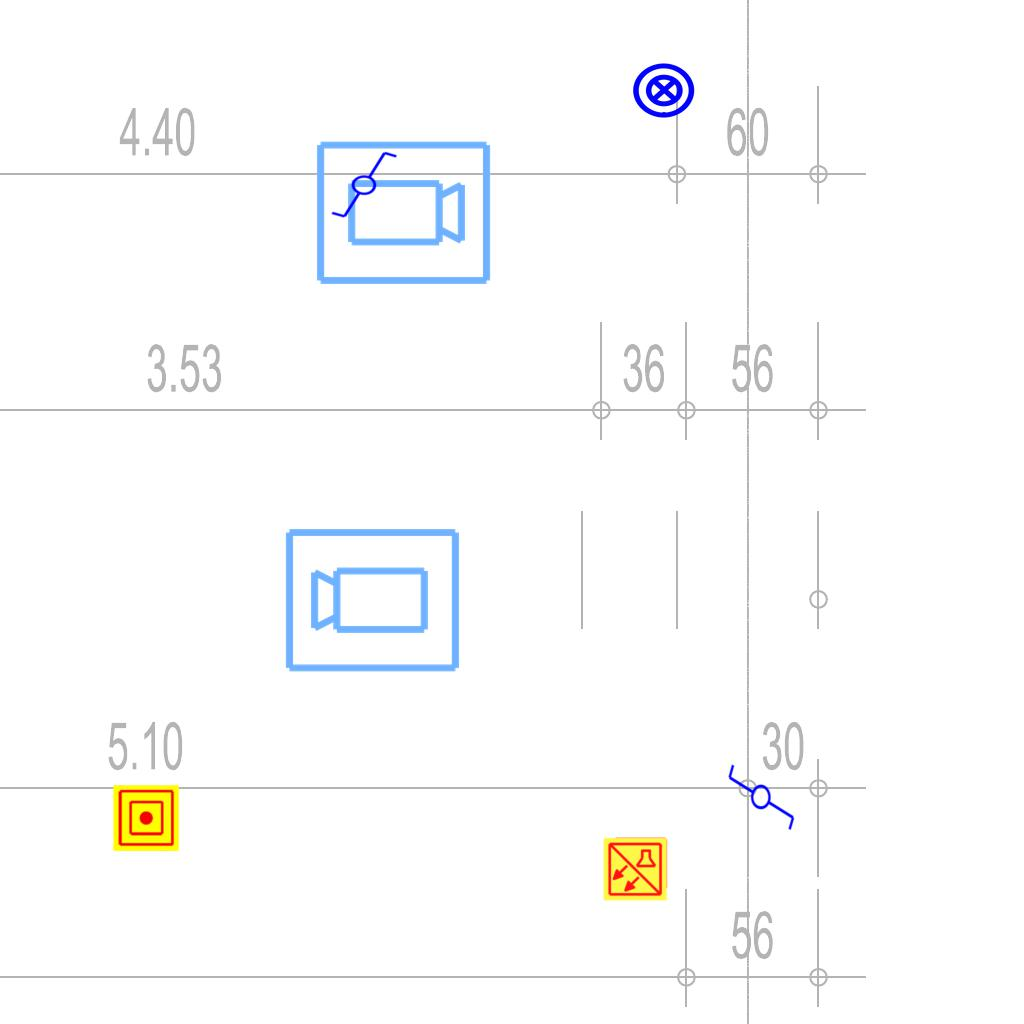KFO_Kamera_mit_Festobjektiv: (312, 137, 494, 291), (282, 522, 464, 676)
NAM-Nichtautomatischer_Melder: (113, 785, 179, 851)
OKW_Multisensormelder_(Kombination_optischer_Rauch-Kahlenmonoxid_Waerme-Melder): (602, 836, 668, 902)
Taster_beleuchtet: (631, 57, 697, 123)
Wechselschalter: (726, 754, 798, 832), (321, 148, 399, 220)
